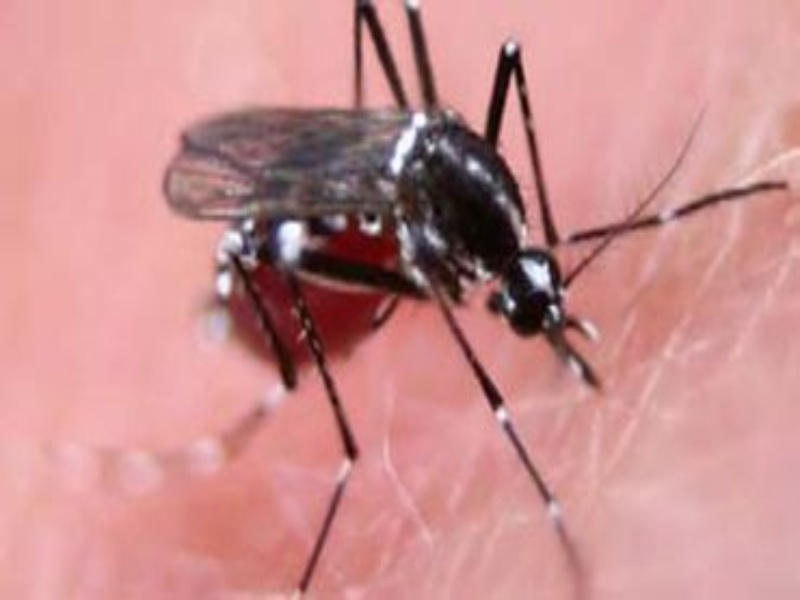dengue_mosquito: (247, 7, 604, 364)
